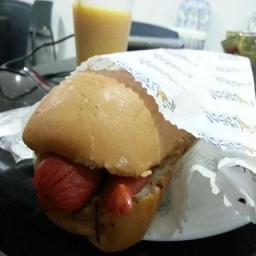hotdog: (32, 155, 102, 225), (108, 174, 154, 217)
